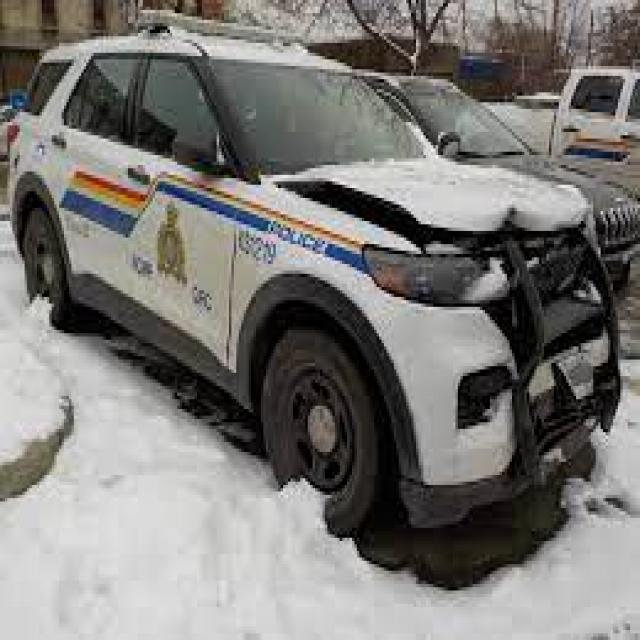moderate: (254, 115, 628, 471)
